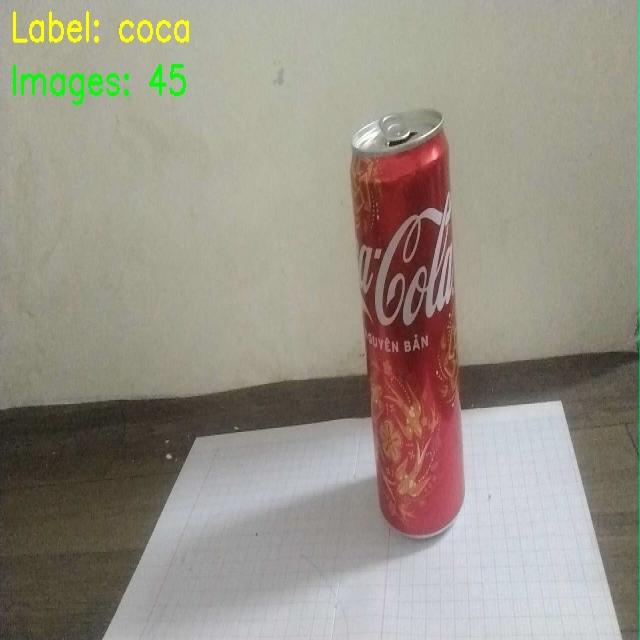Coca: (324, 104, 498, 558)
